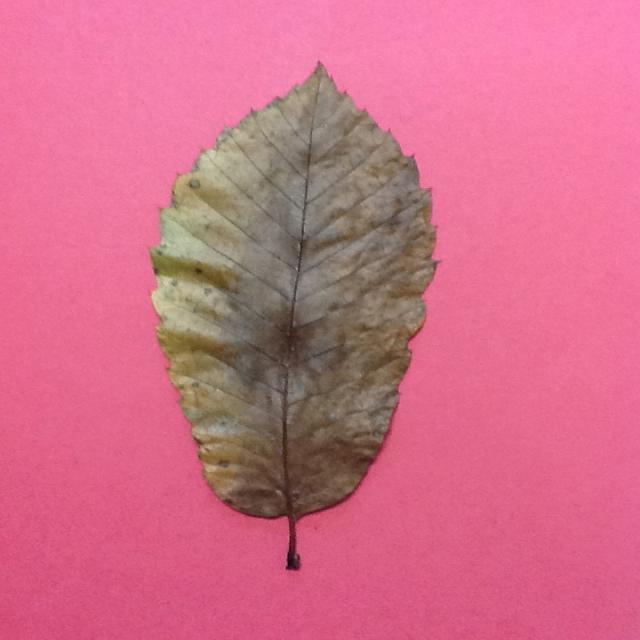foliage: (151, 57, 441, 572)
